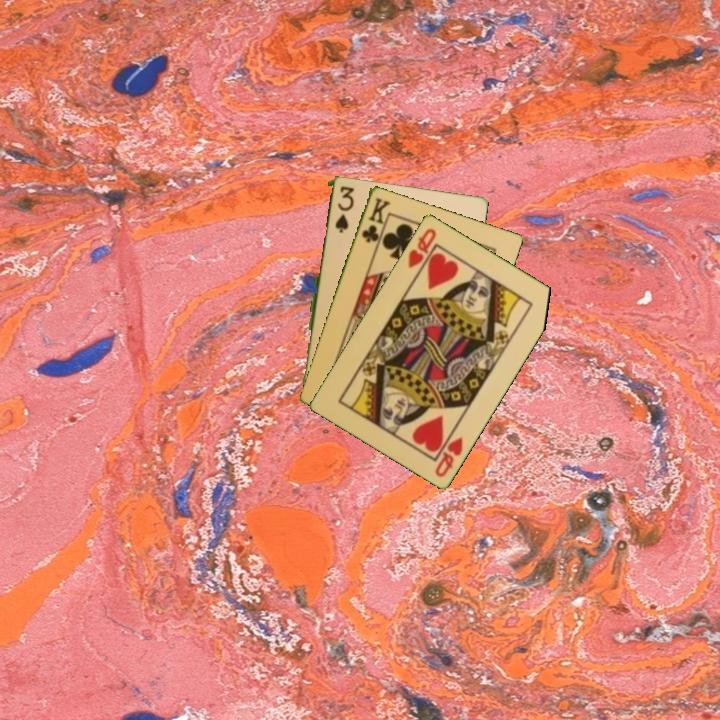3s: (331, 182, 353, 236)
Kc: (358, 194, 392, 245)
Qh: (404, 224, 439, 271), (431, 433, 466, 480)
